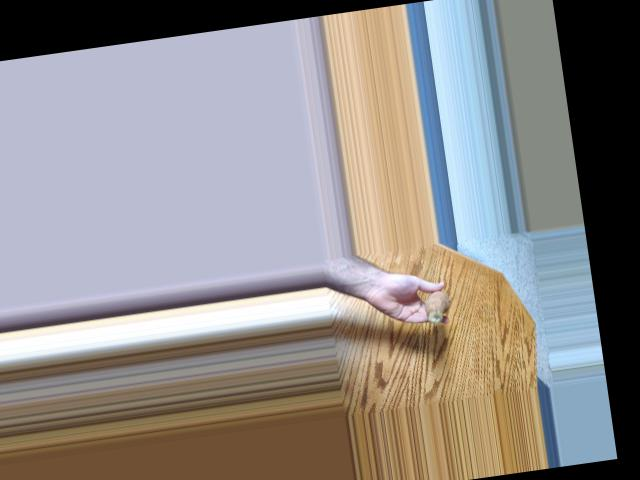sweet_potato: (423, 283, 462, 324)
